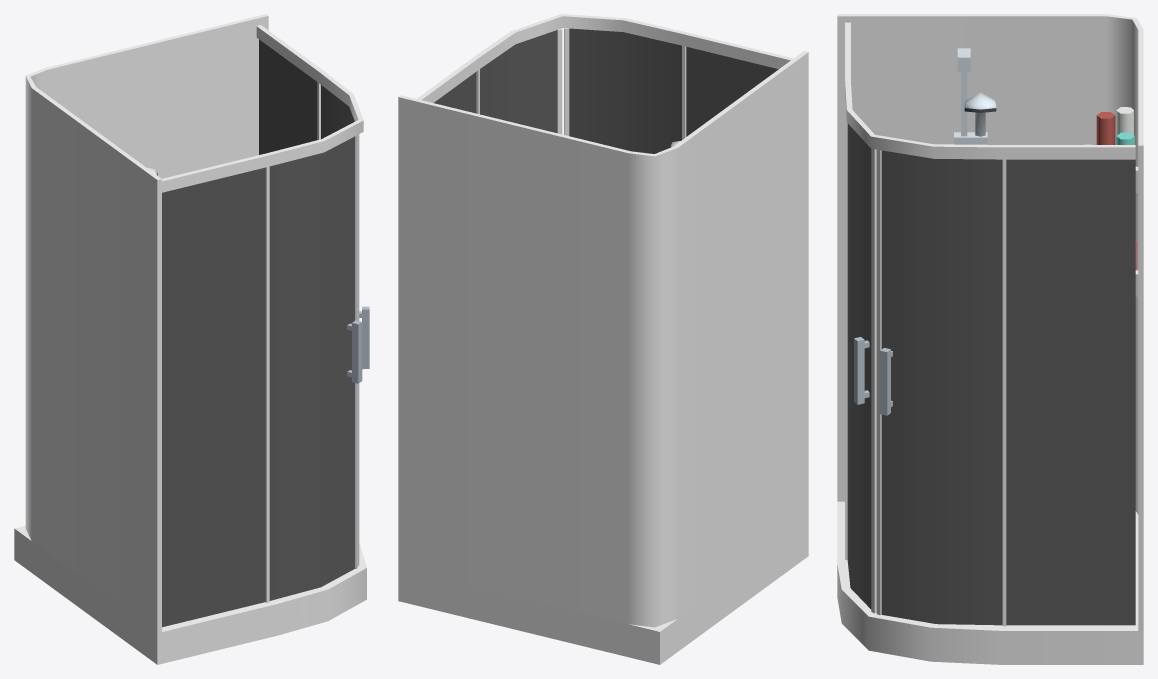
Rendered from SM_Prop_Shower_02.obj.
3 views of the same model, side by side, from view 1: azimuth 30°, elevation 25°; view 2: azimuth 150°, elevation 25°; view 3: azimuth 270°, elevation 25° (orthographic). The views are drawn at different scales.
Parts seen in each view (by area): view 1: SM_Prop_Shower_02_Mat_SwatchOverlay_PolygonTown_01_Inst, SM_Prop_Shower_02_Mat_PolygonTown_Glass; view 2: SM_Prop_Shower_02_Mat_SwatchOverlay_PolygonTown_01_Inst, SM_Prop_Shower_02_Mat_PolygonTown_Glass; view 3: SM_Prop_Shower_02_Mat_PolygonTown_Glass, SM_Prop_Shower_02_Mat_SwatchOverlay_PolygonTown_01_Inst.
Boxes of the visible parts, x1,y1,x2,y2 form: SM_Prop_Shower_02_Mat_SwatchOverlay_PolygonTown_01_Inst: [14, 14, 369, 664]; SM_Prop_Shower_02_Mat_PolygonTown_Glass: [162, 39, 354, 627]; SM_Prop_Shower_02_Mat_SwatchOverlay_PolygonTown_01_Inst: [398, 14, 808, 664]; SM_Prop_Shower_02_Mat_PolygonTown_Glass: [434, 28, 778, 153]; SM_Prop_Shower_02_Mat_PolygonTown_Glass: [847, 123, 1135, 625]; SM_Prop_Shower_02_Mat_SwatchOverlay_PolygonTown_01_Inst: [837, 14, 1143, 664].
Bounding box in the file's own units: 1.29 × 2.37 × 1.27.
Materials: 2 (2 with a texture image).
